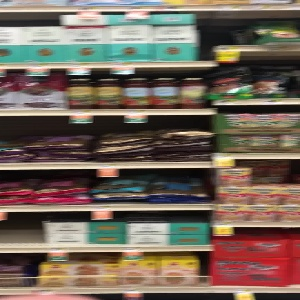void: (1, 206, 41, 248)
